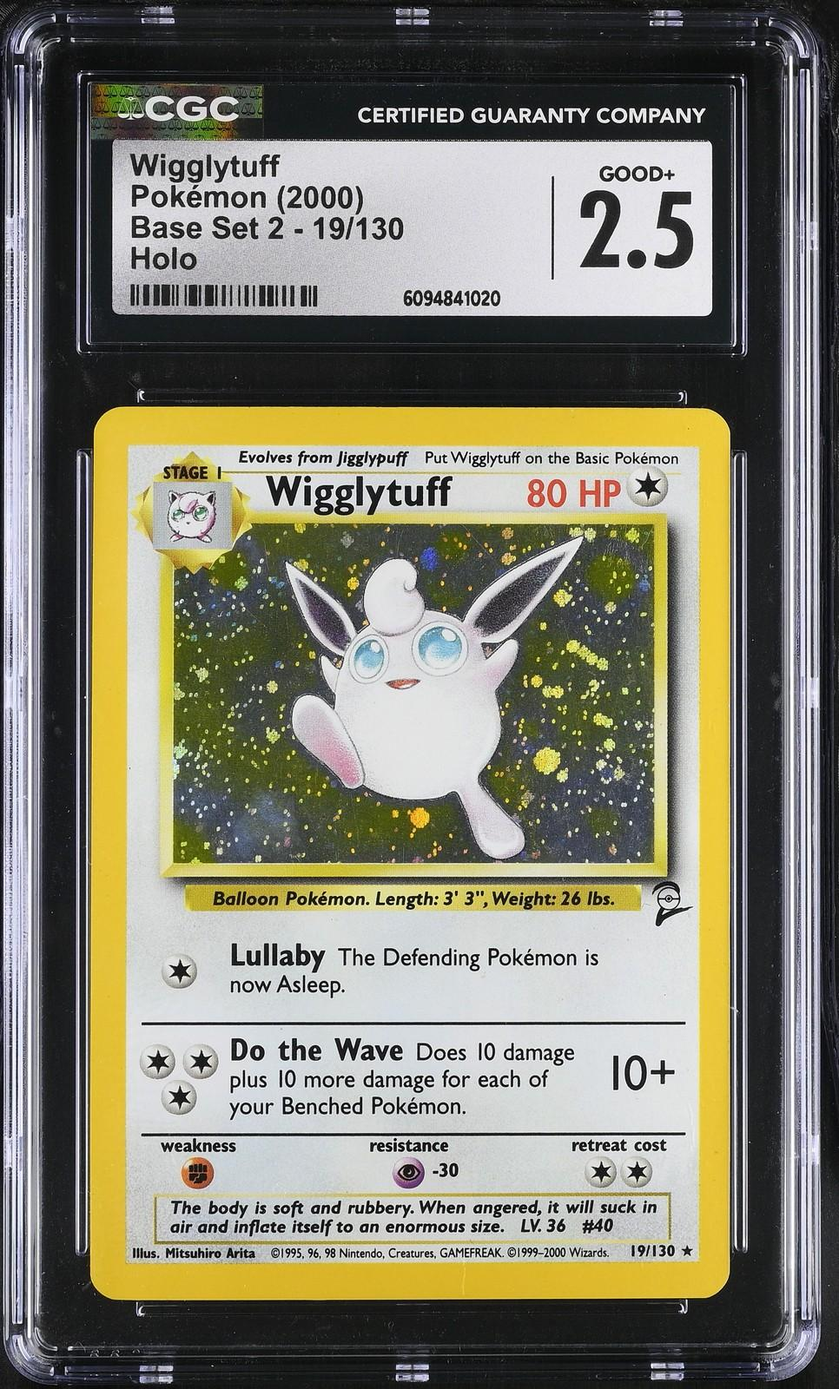card-2UtV: (89, 406, 731, 1301)
